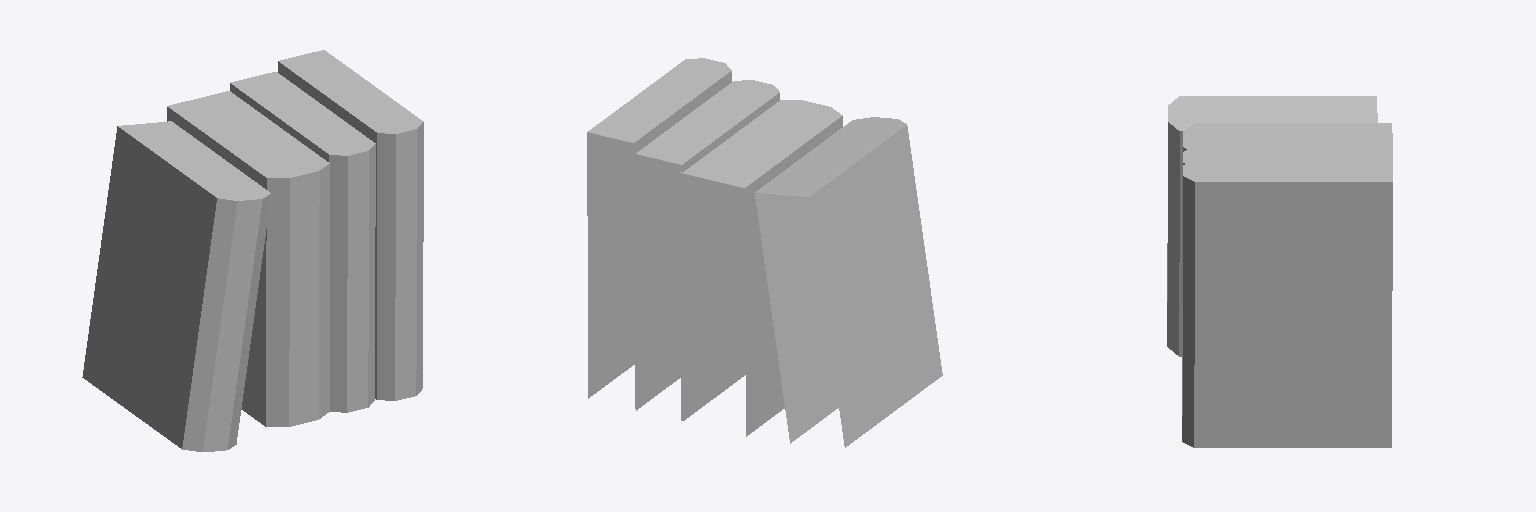
Rendered from BookGroup_Small_1.obj.
3 renders of one model, left to right at view 1: azimuth 30°, elevation 25°; view 2: azimuth 150°, elevation 25°; view 3: azimuth 270°, elevation 25°, orthographic.
Parts seen in each view (by area): view 1: BookGroup_Small_1_Cube.146; view 2: BookGroup_Small_1_Cube.146; view 3: BookGroup_Small_1_Cube.146.
Boxes of the visible parts, box(x1,y1,x2,y2) form: BookGroup_Small_1_Cube.146: box(82, 50, 423, 451); BookGroup_Small_1_Cube.146: box(587, 58, 942, 447); BookGroup_Small_1_Cube.146: box(1167, 96, 1392, 447).
Size of the model in its own units: 0.2893 by 0.2983 by 0.2256.